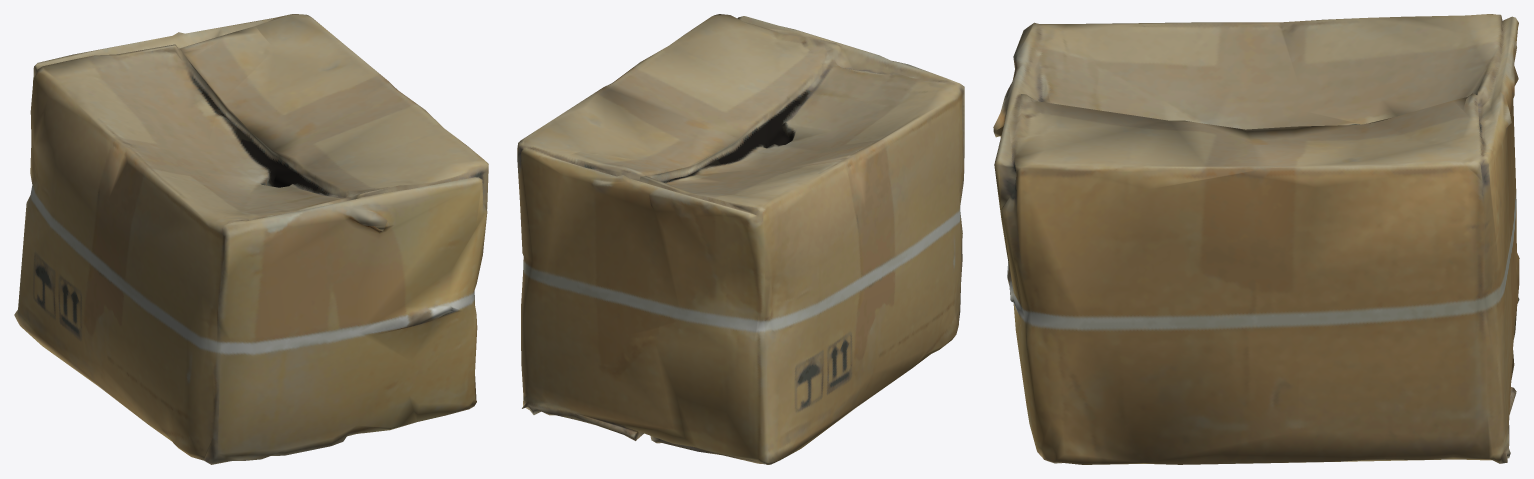
Rendered from cardboard_box_01.glb.
3 views of the same model, side by side, from view 1: azimuth 30°, elevation 25°; view 2: azimuth 150°, elevation 25°; view 3: azimuth 270°, elevation 25° (orthographic). The views are drawn at different scales.
Visible parts, largest first — view 1: cardboard_box_01; view 2: cardboard_box_01; view 3: cardboard_box_01.
Part boxes in pixels (x1,y1,x2,y2): cardboard_box_01: [14, 14, 488, 464]; cardboard_box_01: [517, 14, 964, 464]; cardboard_box_01: [993, 14, 1519, 464].
Size of the model in its own units: 0.3864 by 0.3418 by 0.5159.
Materials: 1 (1 with a texture image).
